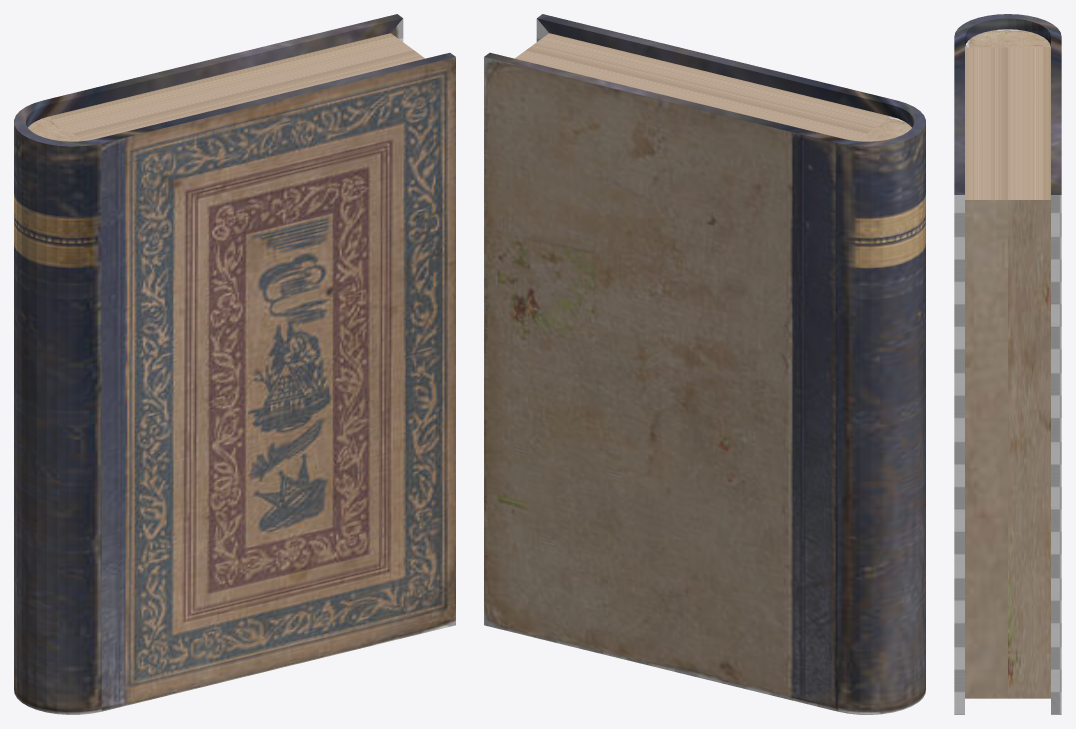
File: book.fbx
3 renders of one model, left to right at view 1: azimuth 30°, elevation 25°; view 2: azimuth 150°, elevation 25°; view 3: azimuth 270°, elevation 25°, orthographic. The views are drawn at different scales.
Parts seen in each view (by area): view 1: Cylinder; view 2: Cylinder; view 3: Cylinder.
Part boxes in pixels (x1,y1,x2,y2): Cylinder: [14, 14, 455, 714]; Cylinder: [484, 14, 925, 714]; Cylinder: [954, 14, 1061, 714].
Size of the model in its own units: 149 by 200 by 37.4.
Materials: 1 (1 with a texture image).
